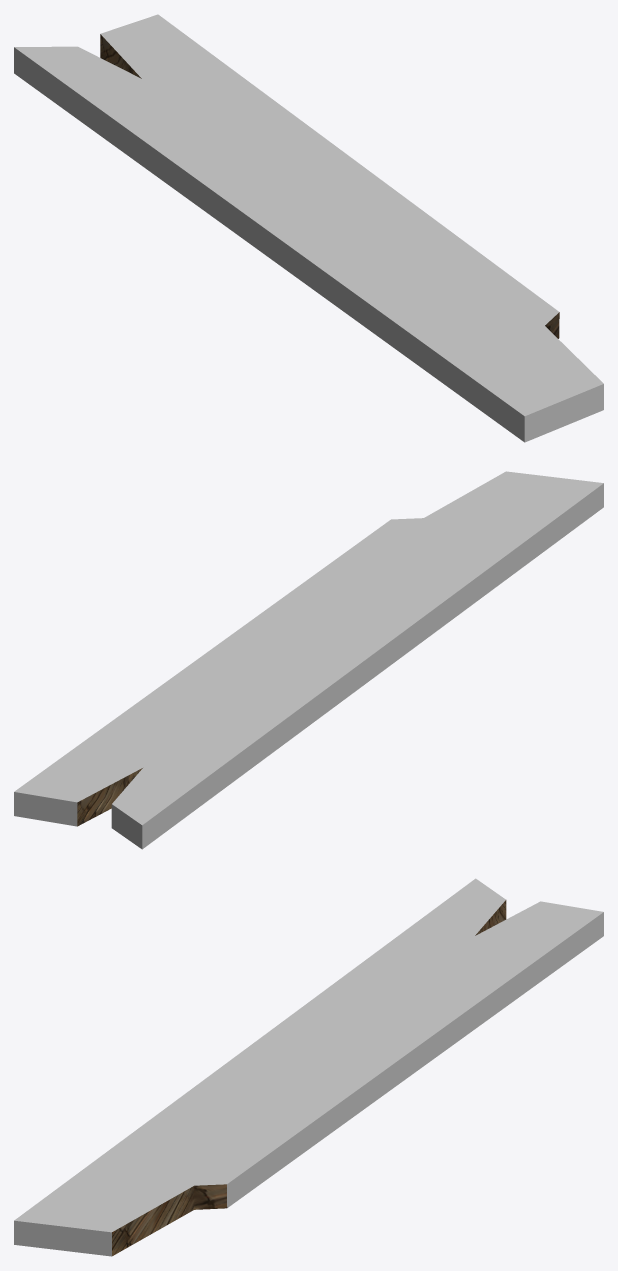
The model's file is lower_city_wood_plank_short_04.fbx.
3 views of the same model, one above another, from view 1: azimuth 30°, elevation 25°; view 2: azimuth 150°, elevation 25°; view 3: azimuth 330°, elevation 25° (orthographic). The views are drawn at different scales.
Parts seen in each view (by area): view 1: lower_city_wood_plank_short_04; view 2: lower_city_wood_plank_short_04; view 3: lower_city_wood_plank_short_04.
Part boxes in pixels (x1,y1,x2,y2): lower_city_wood_plank_short_04: [14, 14, 603, 442]; lower_city_wood_plank_short_04: [14, 471, 603, 849]; lower_city_wood_plank_short_04: [14, 878, 603, 1256].
Bounding box in the file's own units: 0.2855 × 0.0505 × 1.77.
